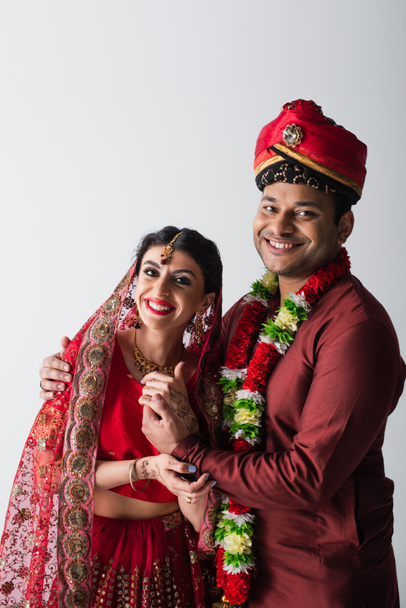men: (247, 97, 372, 302)
women: (103, 221, 222, 354)
